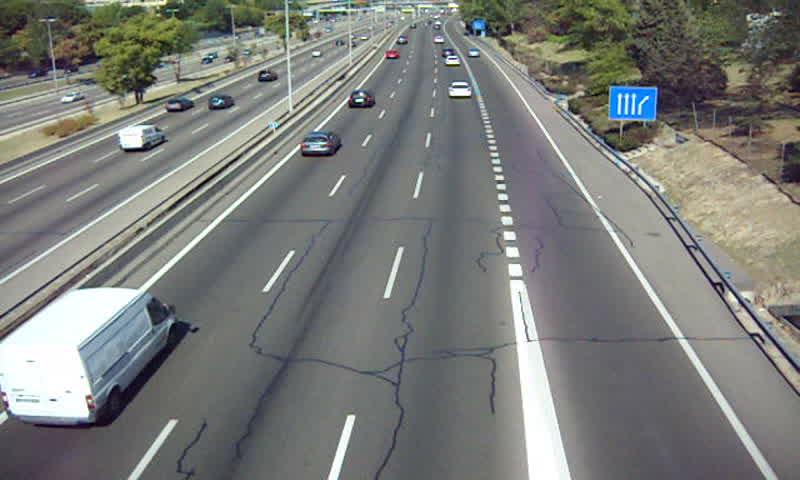car: (300, 132, 341, 156), (348, 88, 374, 108), (446, 81, 474, 98), (443, 55, 462, 66), (384, 50, 402, 60)
van: (1, 288, 175, 427)
